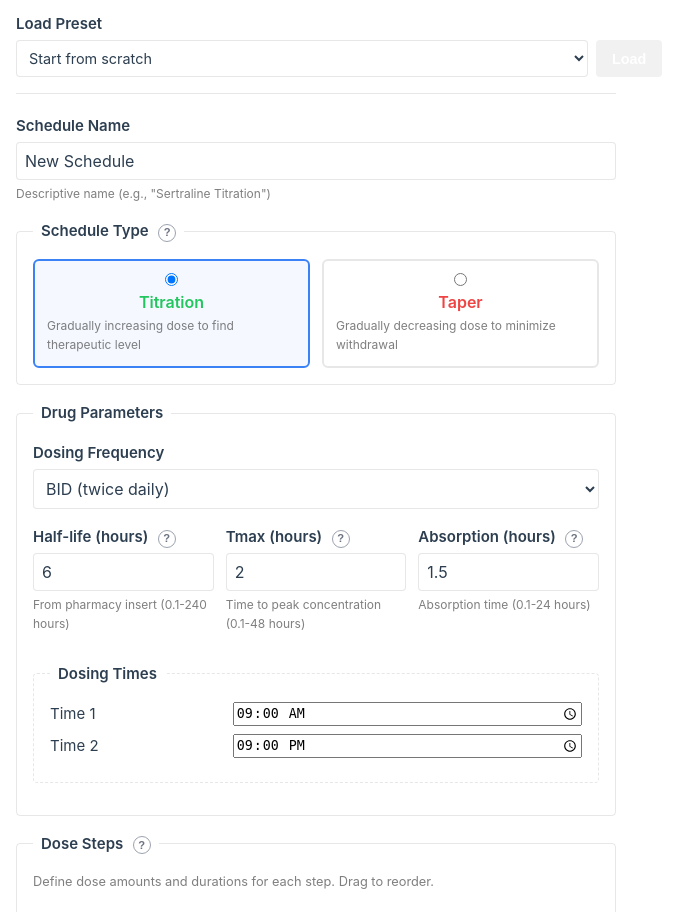
Test: ScheduleForm › preset selector › enables load button when a preset is selected
Select "Sertraline Titration - Standard SSRI titration from 25mg to 100mg over 4 weeks" in the dropdown labelled "Load Preset" at [302, 58], box [16,40,588,77]
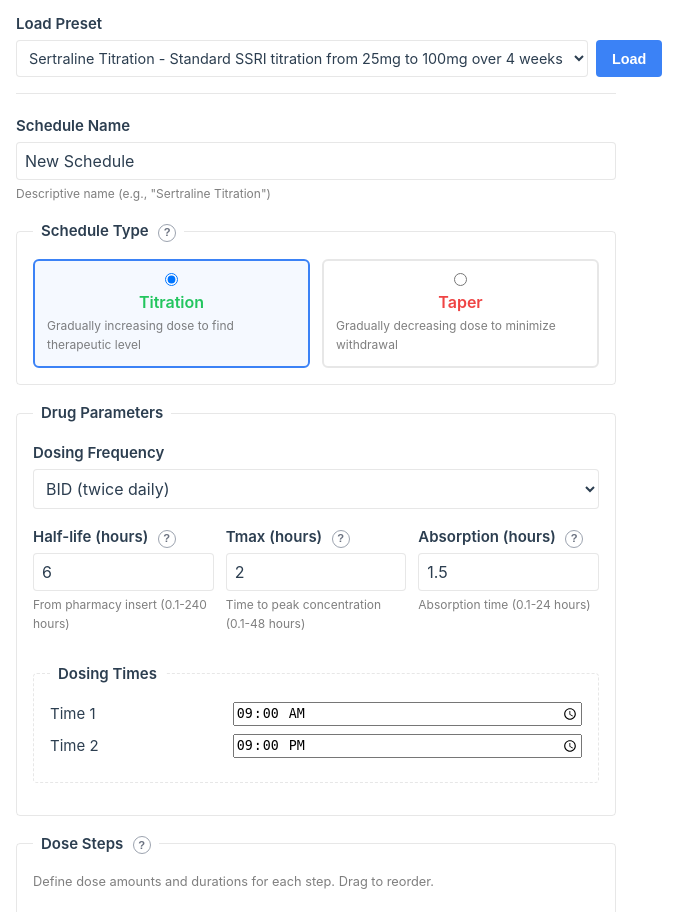
expect the button with class "load-preset-btn" is enabled: met, box [596,40,662,77]
